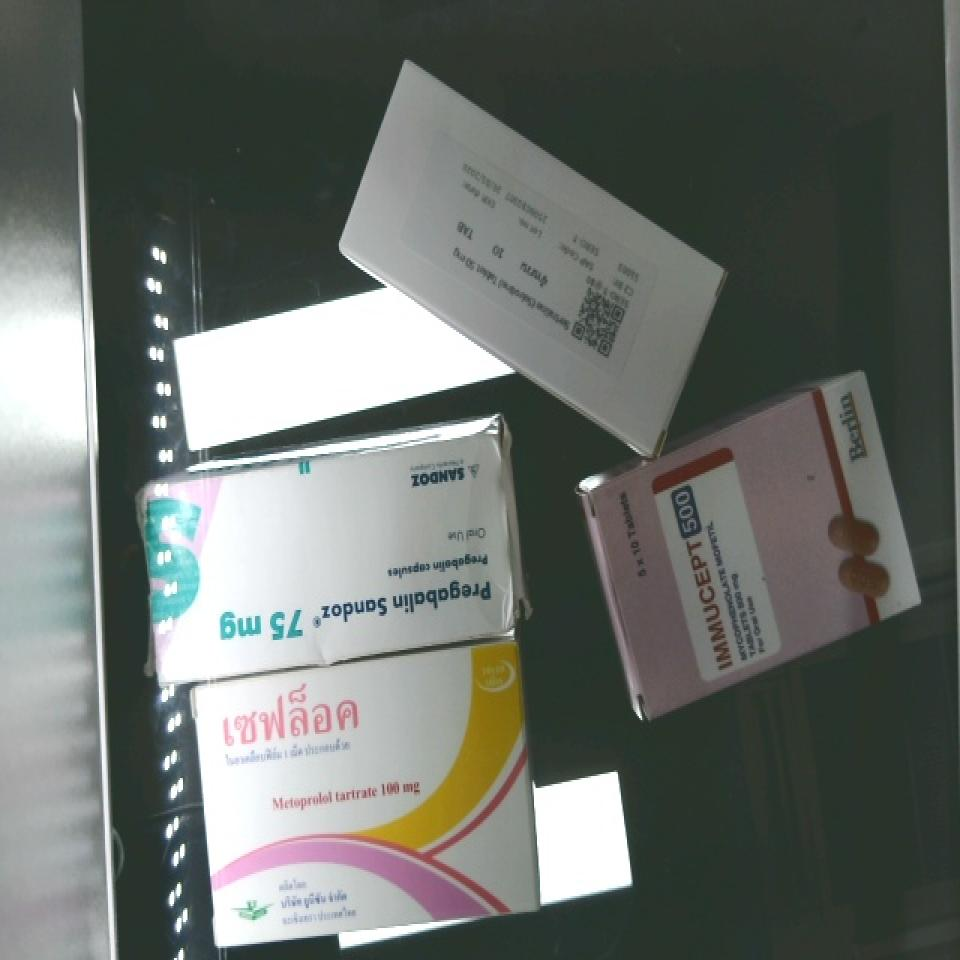medicine_box: (299, 64, 752, 455), (552, 362, 957, 721), (186, 634, 541, 945), (129, 423, 531, 683)
medicine_label_obb: (205, 566, 500, 664), (650, 467, 753, 690), (193, 664, 384, 771)
qr_code: (541, 252, 657, 377)
